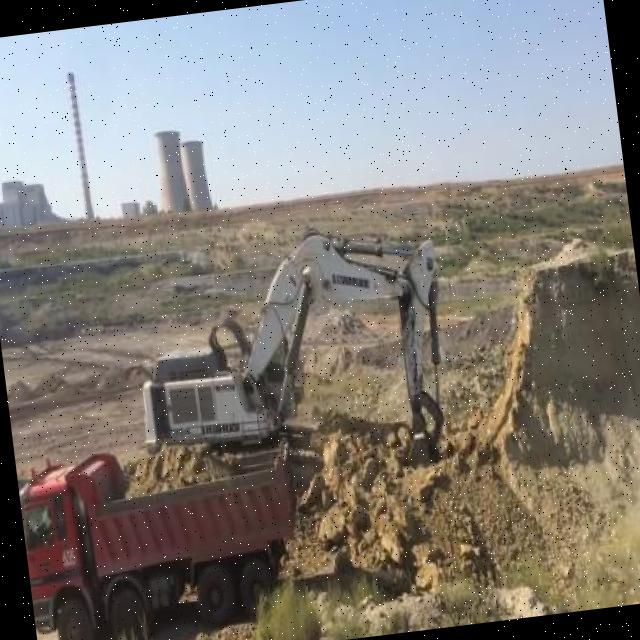Dump Truck: (15, 432, 308, 640)
Excavator: (123, 210, 462, 500)
